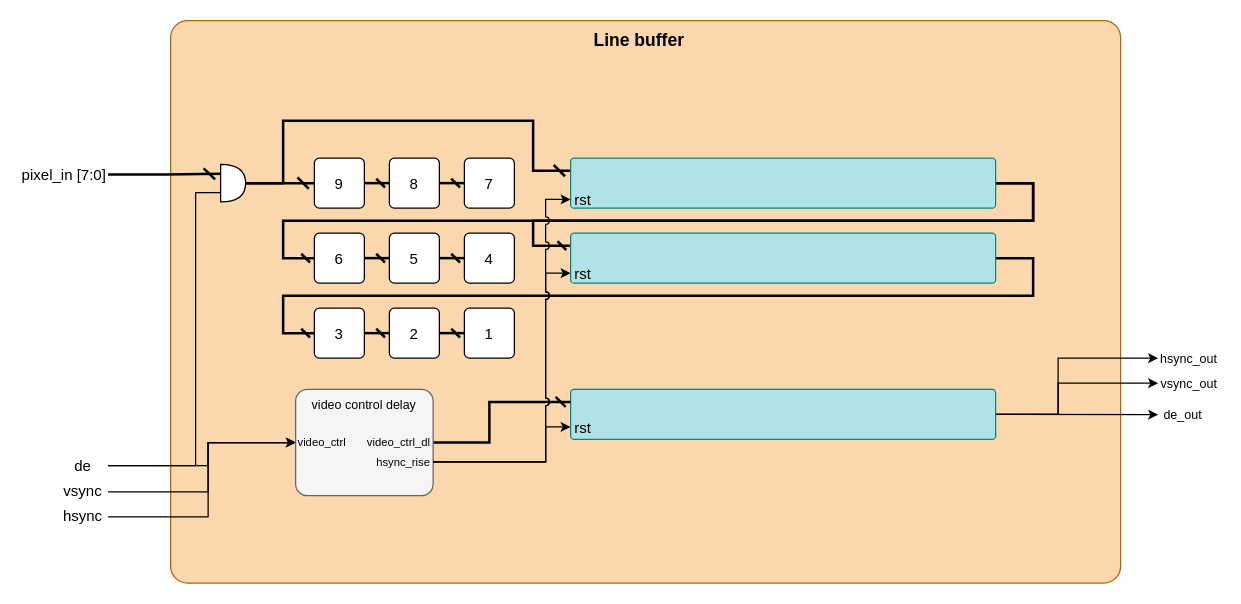
This 1241x604 diagram has some shape labels left out. Here are the shapes that lost their labels. From the top down, the box of each, then its label:
(569, 157, 996, 208): Line 1
(569, 232, 996, 283): Line 2
(569, 388, 996, 439): video control line
